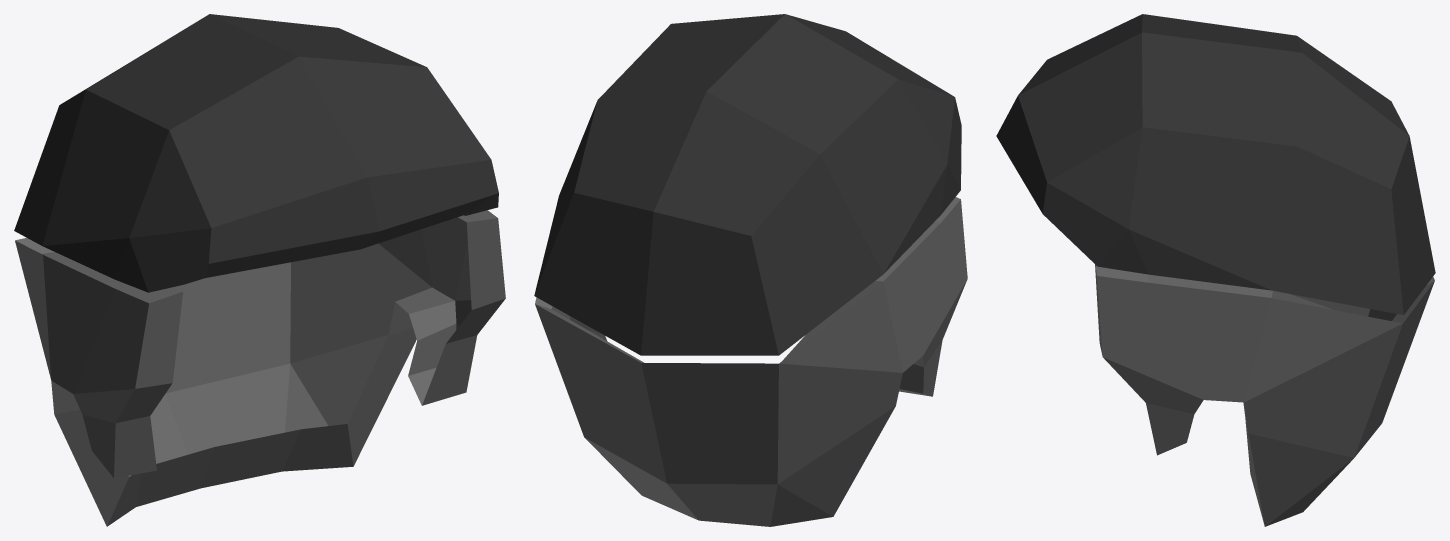
Rendered from MP_Hair_Type1_BuzzCut2.fbx.
3 views of the same model, side by side, from view 1: azimuth 30°, elevation 25°; view 2: azimuth 150°, elevation 25°; view 3: azimuth 270°, elevation 25° (orthographic). The views are drawn at different scales.
Parts seen in each view (by area): view 1: MP_Hair_Type1_BuzzCut2; view 2: MP_Hair_Type1_BuzzCut2; view 3: MP_Hair_Type1_BuzzCut2.
Boxes of the visible parts, bbox=[...] form: MP_Hair_Type1_BuzzCut2: bbox=[14, 14, 505, 526]; MP_Hair_Type1_BuzzCut2: bbox=[534, 14, 967, 526]; MP_Hair_Type1_BuzzCut2: bbox=[996, 14, 1435, 526].
Size of the model in its own units: 0.2107 by 0.2652 by 0.2336.
